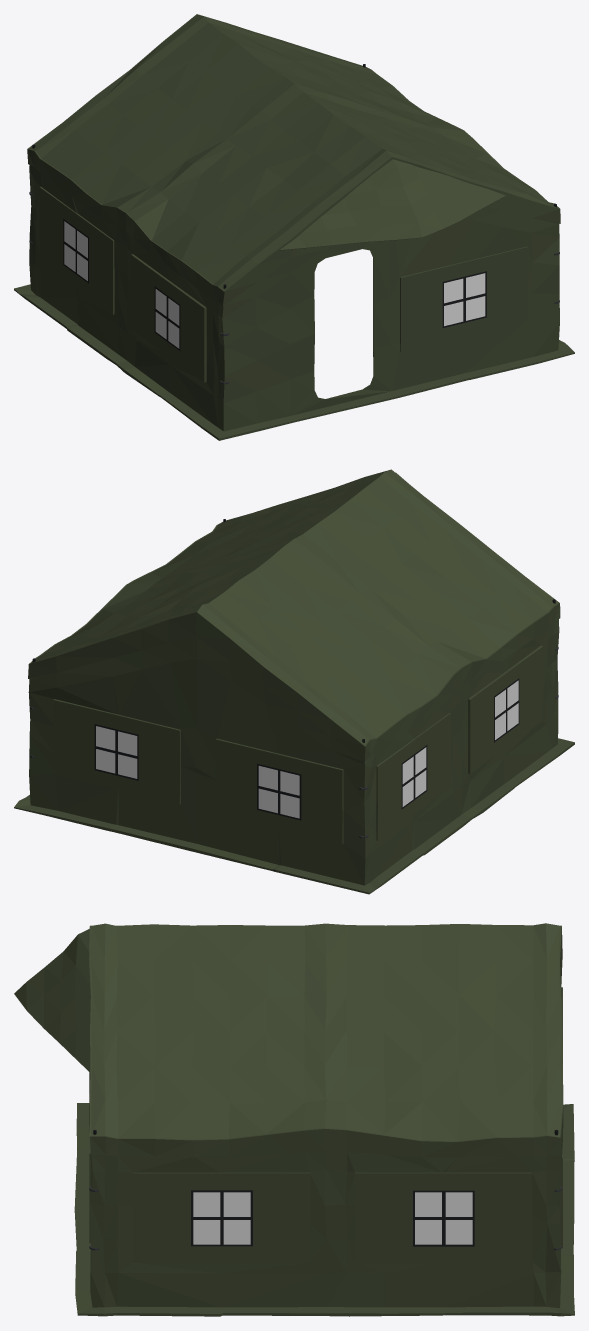
Rendered from Tent_C_01.gltf.
3 views of the same model, one above another, from view 1: azimuth 30°, elevation 25°; view 2: azimuth 150°, elevation 25°; view 3: azimuth 270°, elevation 25° (orthographic). The views are drawn at different scales.
Parts seen in each view (by area): view 1: Tent_C_01; view 2: Tent_C_01; view 3: Tent_C_01.
Part boxes in pixels (x1=…): Tent_C_01: x1=14, y1=14, x2=574, y2=440; Tent_C_01: x1=14, y1=469, x2=574, y2=894; Tent_C_01: x1=14, y1=923, x2=574, y2=1316.
Size of the model in its own units: 4.81 by 3.06 by 5.39.
Materials: 2 (1 with a texture image).
